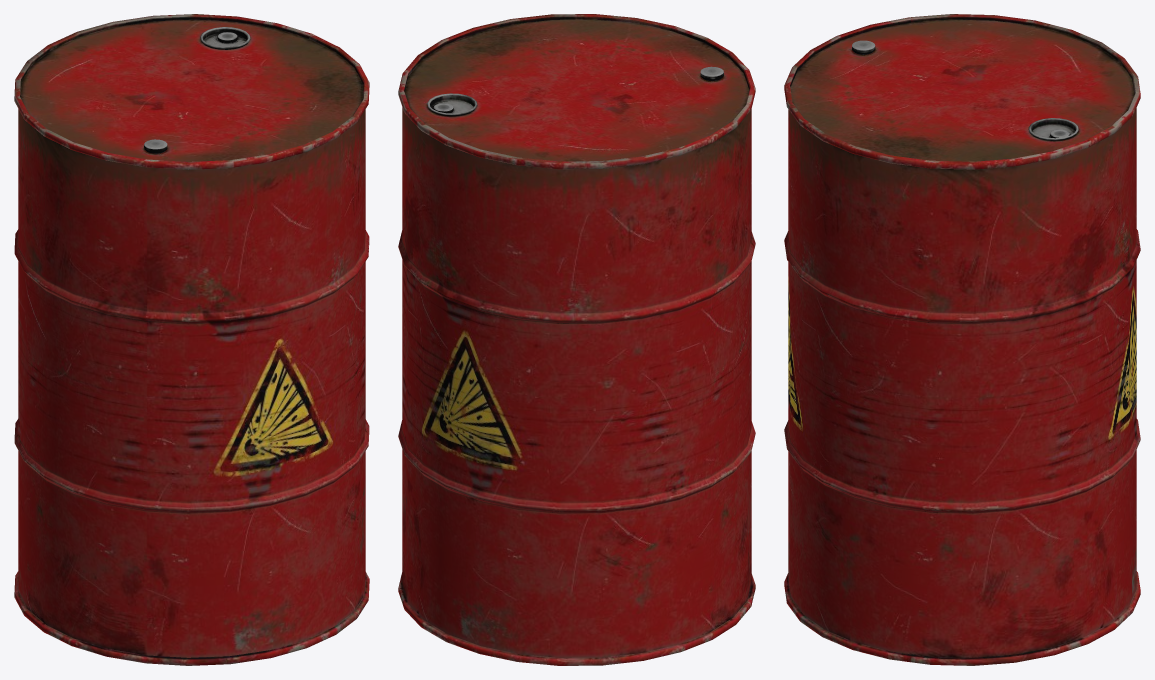
Rendered from drum1.glb.
3 renders of one model, left to right at view 1: azimuth 30°, elevation 25°; view 2: azimuth 150°, elevation 25°; view 3: azimuth 270°, elevation 25°, orthographic.
Visible parts, largest first — view 1: drum1; view 2: drum1; view 3: drum1.
Part boxes in pixels (bbox=[...]): drum1: bbox=[14, 14, 369, 665]; drum1: bbox=[398, 14, 755, 665]; drum1: bbox=[784, 14, 1140, 665].
Bounding box in the file's own units: 0.563 × 0.88 × 0.563.
Materials: 1 (1 with a texture image).
